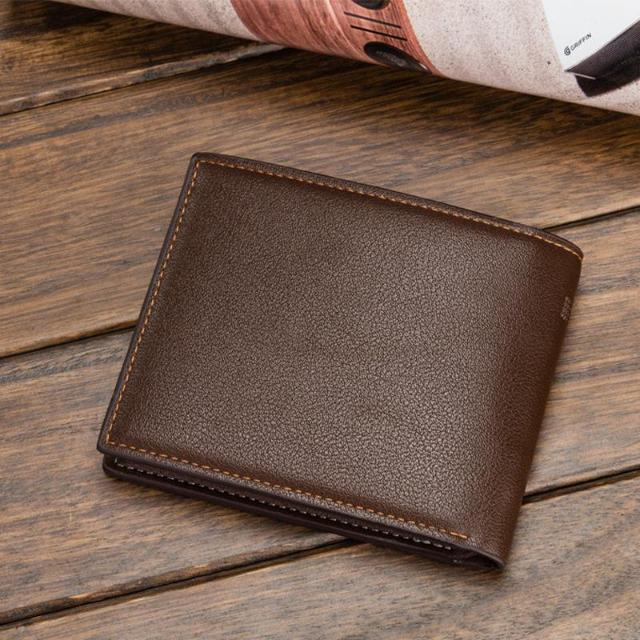wallet: (92, 146, 590, 584)
